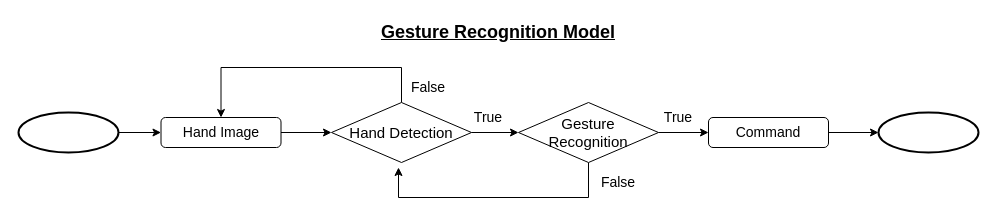
This 996x223 diagram has some shape labels left out. The centre of each missing label's shape, as x and y in pixels:
"End" goes at pixel 928 132.
"Start" goes at pixel 68 132.
